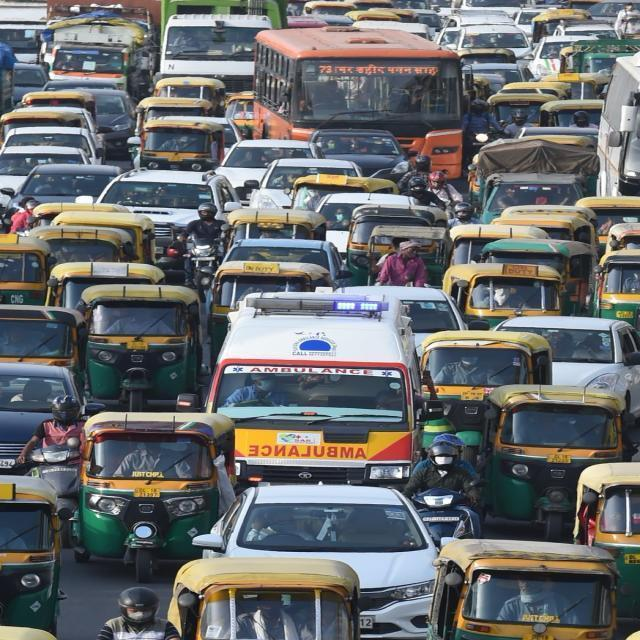Ambulance: (2, 3, 637, 637), (202, 290, 424, 489)
Auto: (67, 409, 239, 583), (477, 382, 632, 540), (423, 536, 622, 638), (163, 555, 363, 639)
Bus: (249, 24, 466, 165)
truck: (154, 0, 285, 98)
